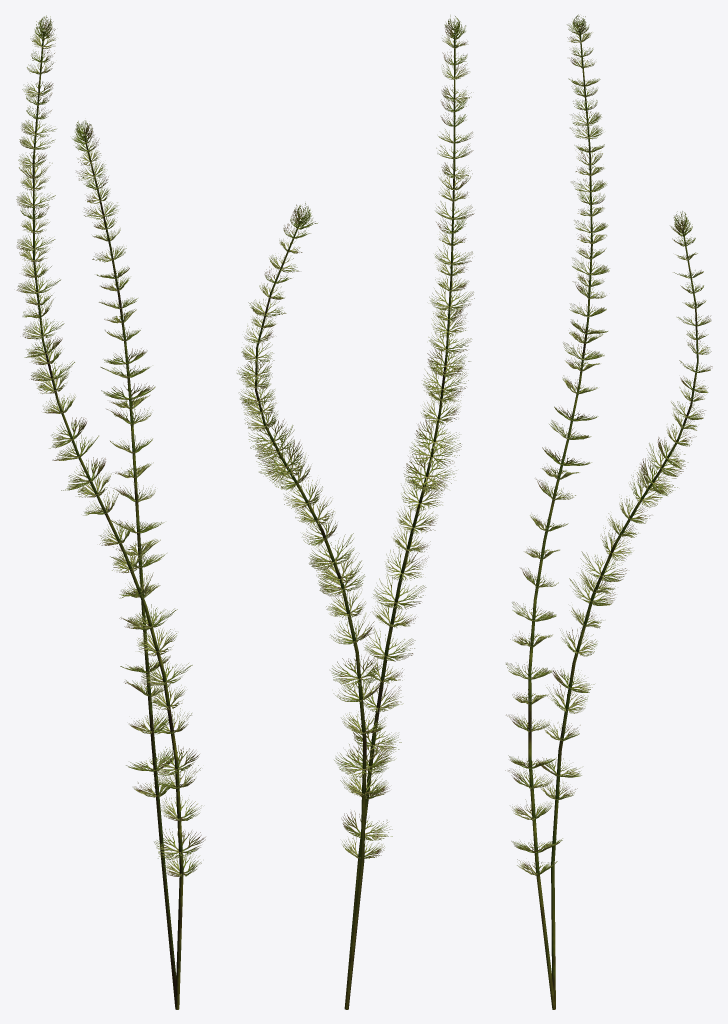
The model's file is rogatek-krotkoszyjkowy-1.obj.
3 views of the same model, side by side, from view 1: azimuth 30°, elevation 25°; view 2: azimuth 150°, elevation 25°; view 3: azimuth 270°, elevation 25° (orthographic). The views are drawn at different scales.
Parts seen in each view (by area): view 1: rogatek-łodyga1; view 2: rogatek-łodyga1; view 3: rogatek-łodyga1.
Part boxes in pixels (x1,y1,x2,y2): rogatek-łodyga1: (16,15,205,1009); rogatek-łodyga1: (237,15,474,1009); rogatek-łodyga1: (505,14,712,1009).
Size of the model in its own units: 0.1974 by 1.08 by 0.2178.
